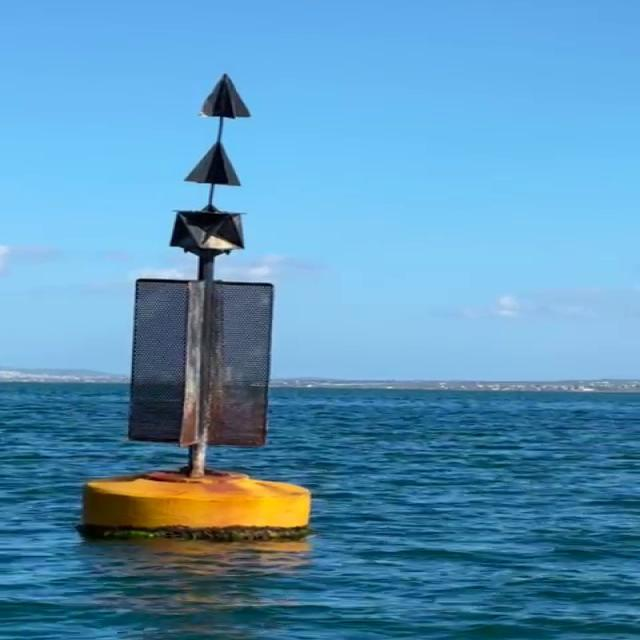marque: (85, 72, 307, 541)
